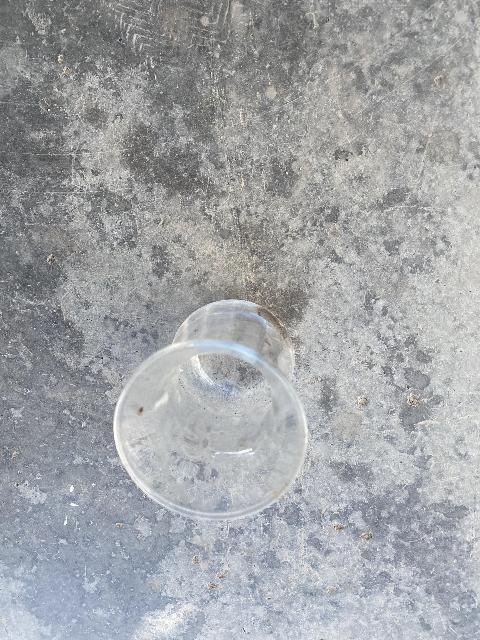Cam: (113, 297, 312, 537)
